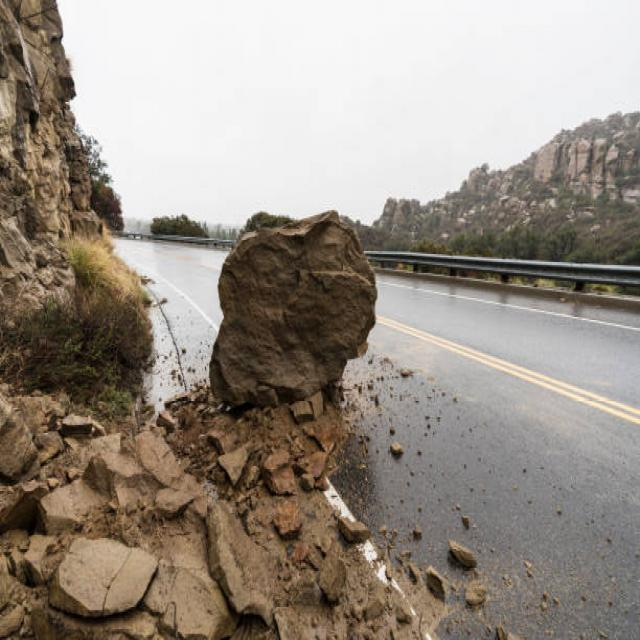landSliding: (43, 159, 549, 594)
